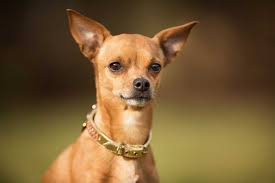chihuahua: (52, 5, 209, 182)
